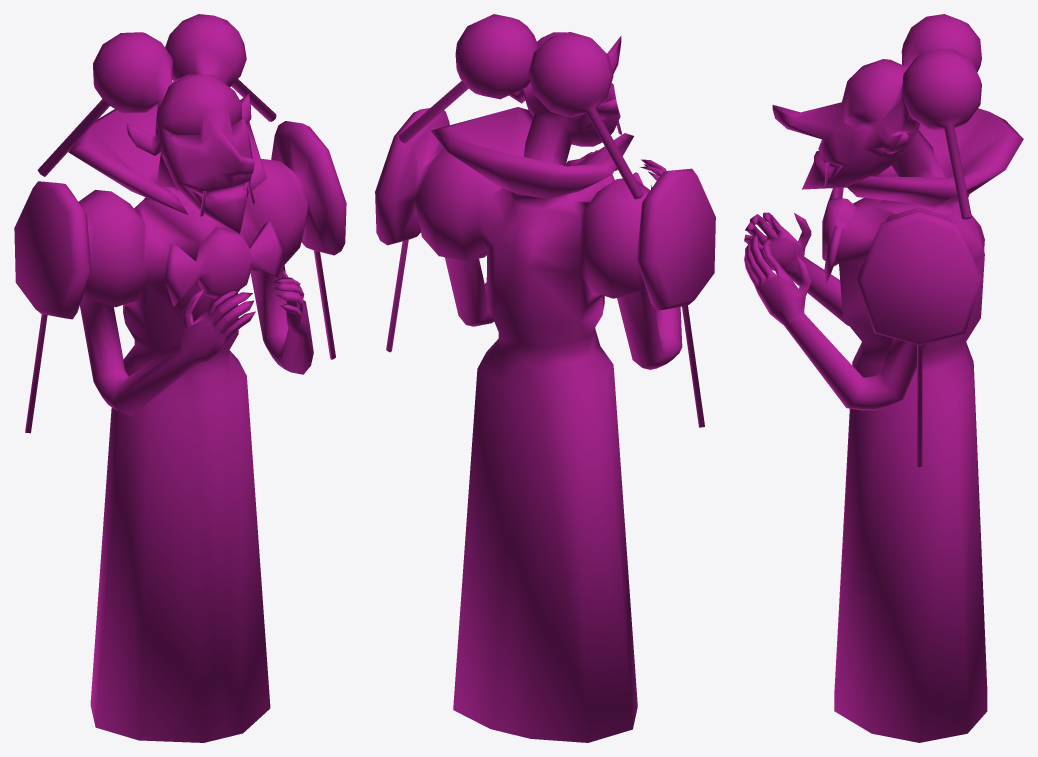
The model's file is Count Suckerla.obj.
The picture shows the model from 3 angles, left to right: view 1: azimuth 30°, elevation 25°; view 2: azimuth 150°, elevation 25°; view 3: azimuth 270°, elevation 25°; orthographic projection. The views are drawn at different scales.
Parts seen in each view (by area): view 1: Count_Suckerla; view 2: Count_Suckerla; view 3: Count_Suckerla.
Part boxes in pixels (x1,y1,x2,y2): Count_Suckerla: (14, 14, 346, 742); Count_Suckerla: (375, 14, 715, 742); Count_Suckerla: (744, 14, 1023, 742).
Bounding box in the file's own units: 108 × 223 × 85.
